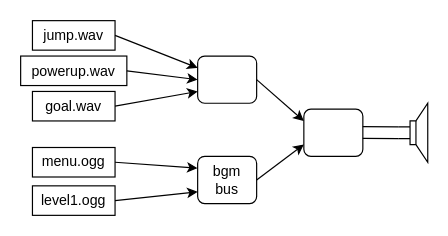
This 448x236 diagram has some shape labels left out. The shapes that lost their labels are listed below. From the top down, each one's centre as x and y in pixels, then its label:
At point 226,79: "sfx bus".
At point 333,132: "master bus".
